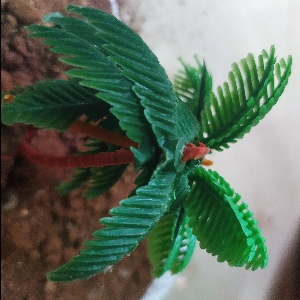plant: (10, 1, 299, 280)
